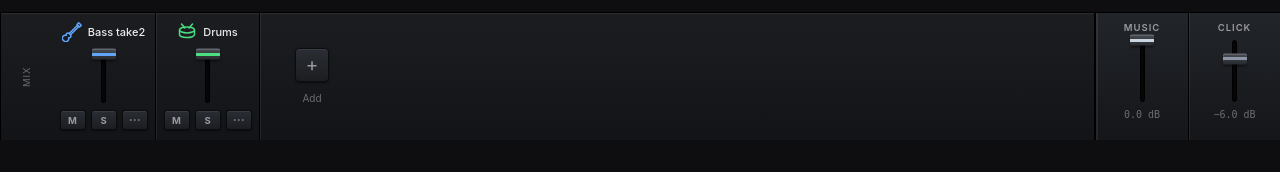
Test case: the channel menu › offers the things you can do to a channel
Click the button "⋯" below "Bass take2" at (134, 120), box 122,110 -> 148,130
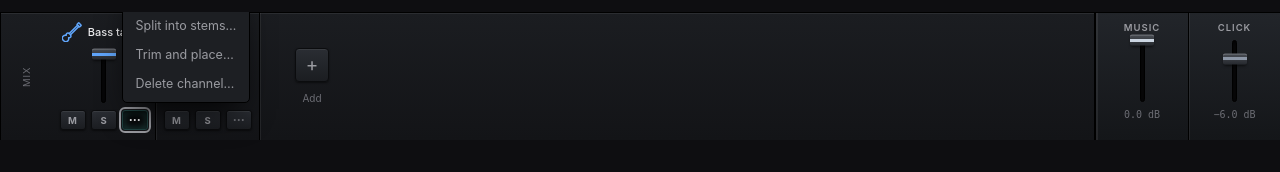
Now the menu item "Split into stems…" is shown, box 126,11 -> 245,40
Now the menu item "Trim and place…" is shown, box 126,40 -> 245,69
Now the menu item "Delete channel…" is shown, box 126,69 -> 245,98
